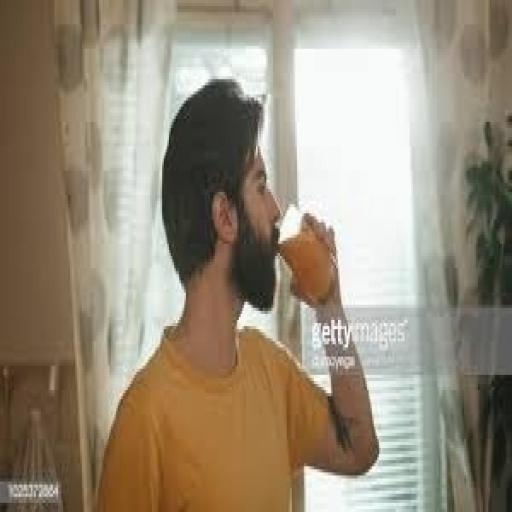drinking: (272, 204, 334, 305)
